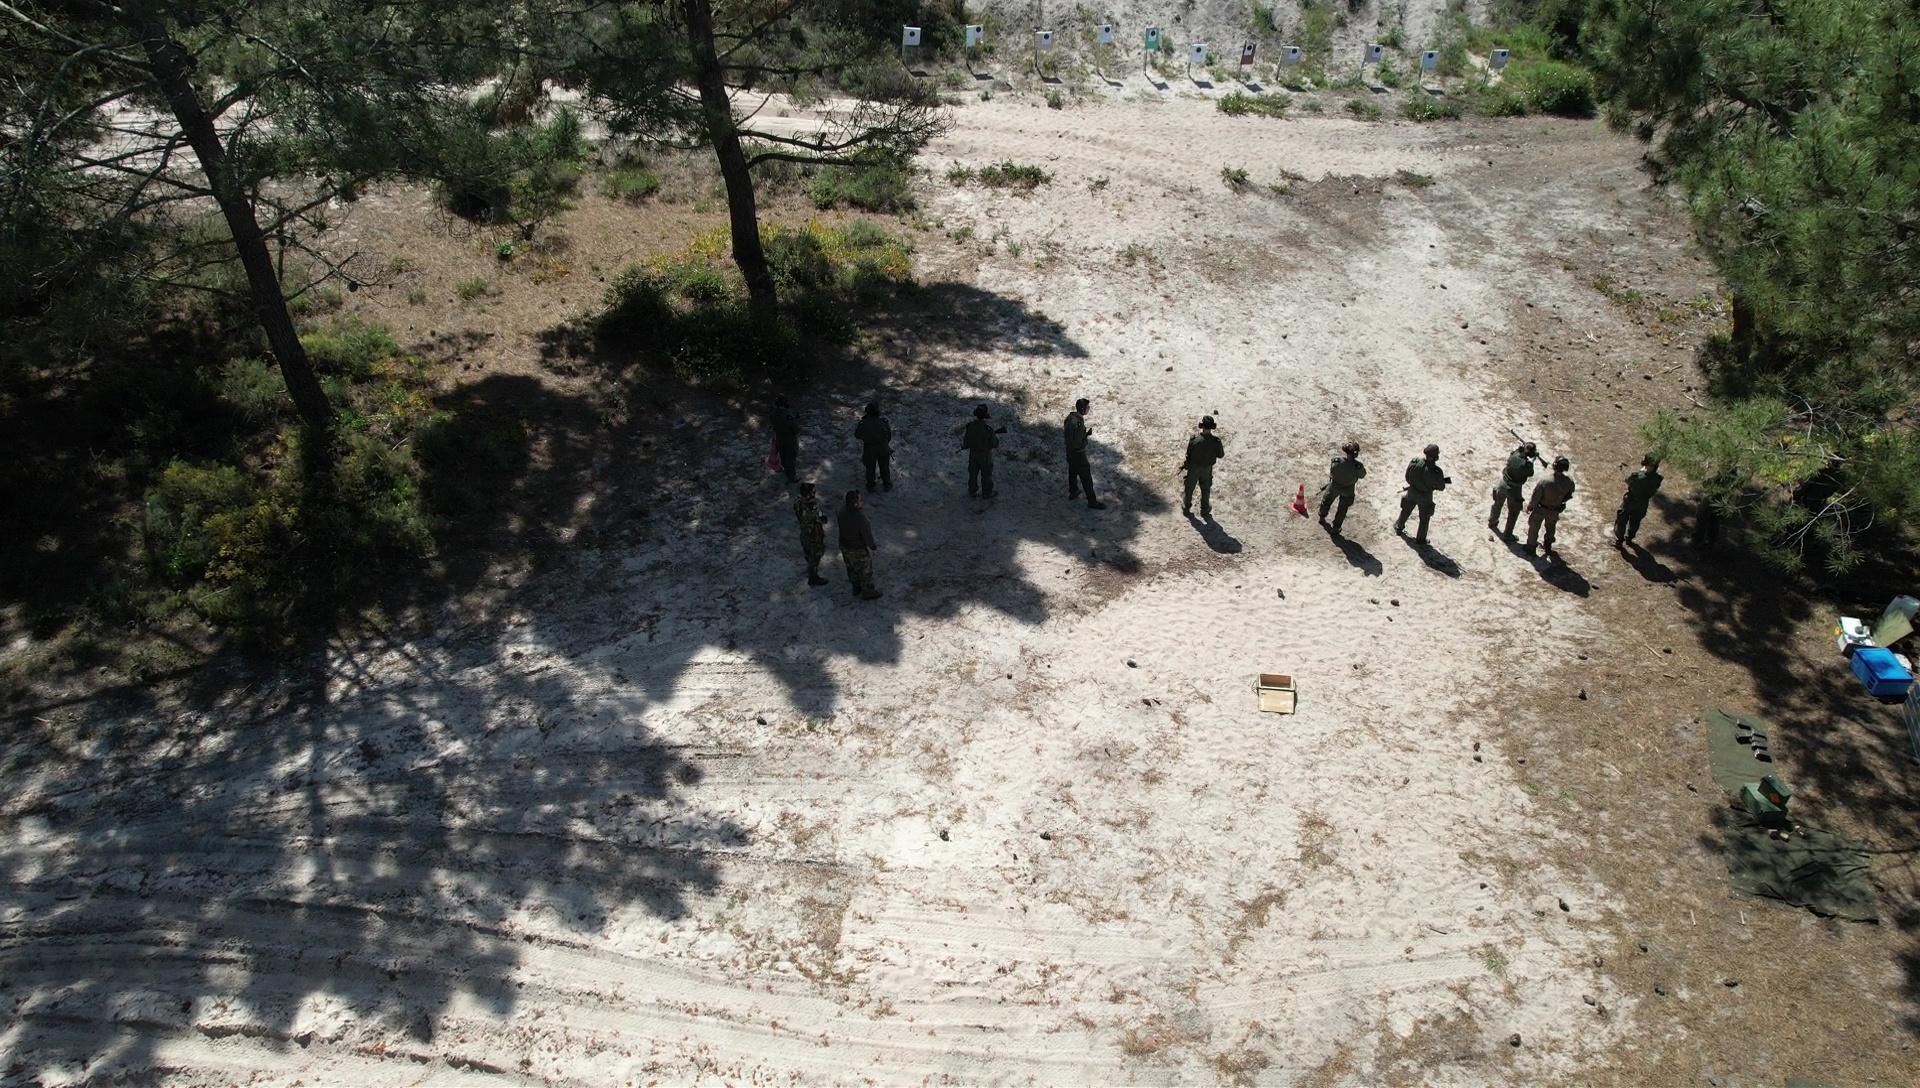Soldier: (1174, 415, 1232, 528), (1514, 459, 1578, 557), (1309, 452, 1373, 551), (848, 400, 907, 500), (1394, 443, 1451, 547), (835, 500, 884, 605), (1059, 408, 1101, 521), (1613, 467, 1658, 568), (793, 499, 837, 595), (957, 408, 1002, 501), (1487, 460, 1532, 549), (764, 404, 806, 489)
